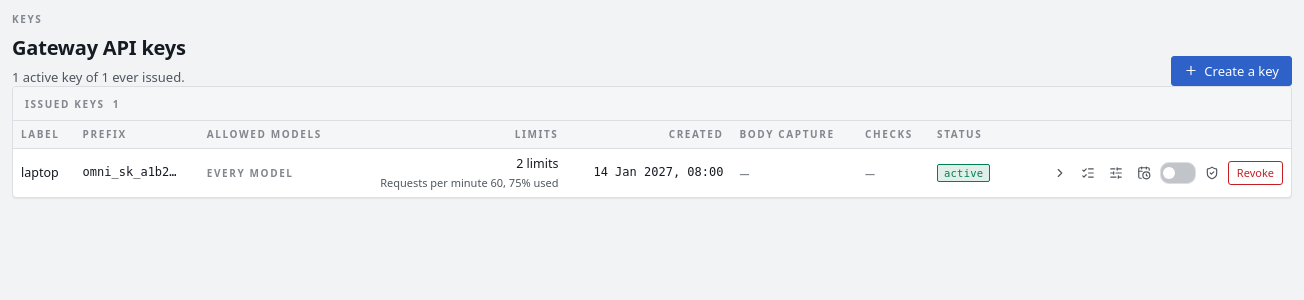
Test case: KeysBoard › the full matrix is behind a disclosure rather than in the cell
This screenshot has width=1304, height=300.
Click the button named "Show limits for laptop" at [1060, 173], box 1048,161 -> 1072,185
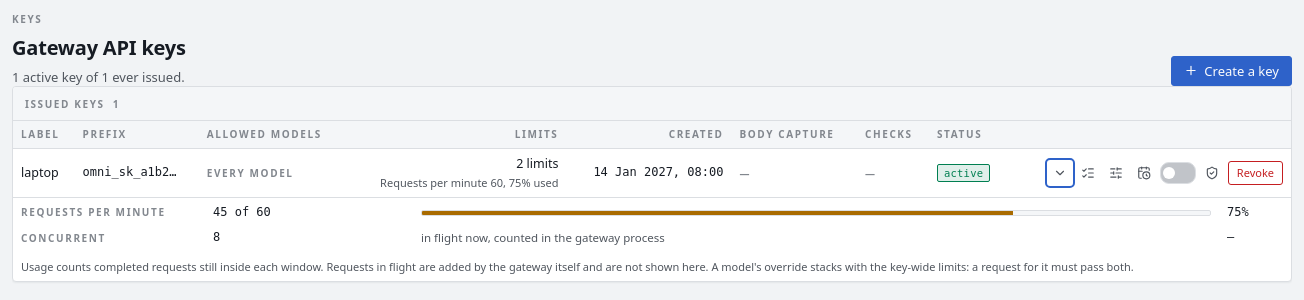
expect the element named "laptop, Requests per minute, 75% used" is shown: met, box 421,210 -> 1211,216
expect the text "in flight now, counted in the gateway process" is shown: met, box 421,230 -> 665,245
